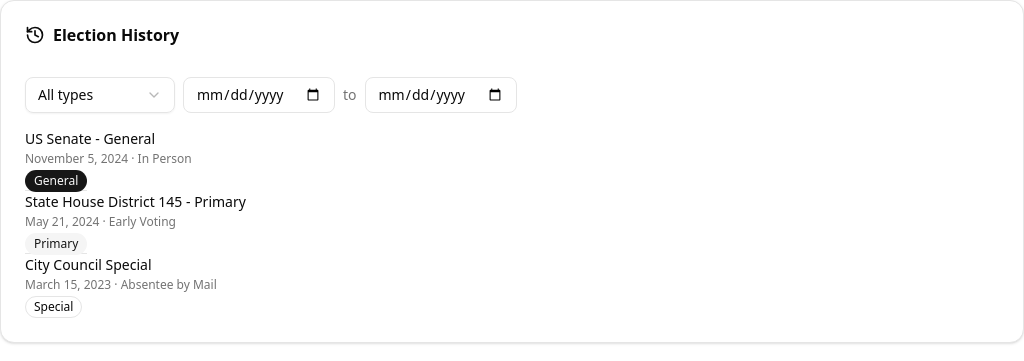
Test: VoterHistoryCard › filters by date range
Expected: the number of links with test id "election-link" is 3, [25,129,999,191]; [25,192,999,254]; [25,255,217,318]
# Set date-from to filter out older records
Type "2024-01-01" into the date field named "Date from" at [259, 95], box [183,77,335,113]
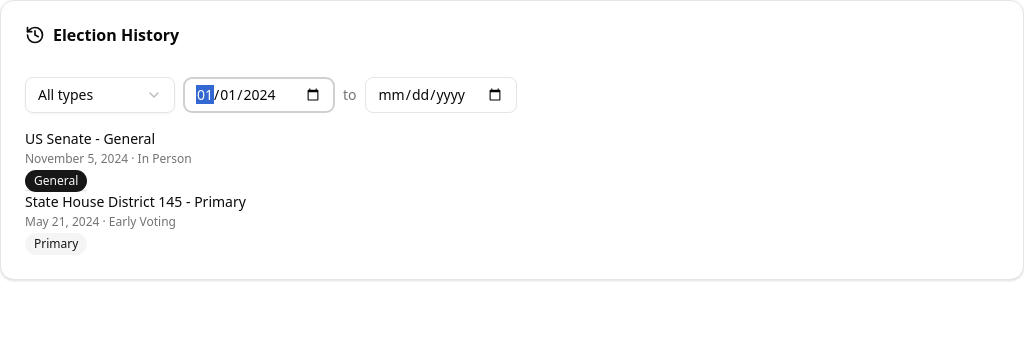
Now the number of links with test id "election-link" is 2, box [25,129,999,191]; [25,192,246,255]
Now the link "City Council Special" is gone
